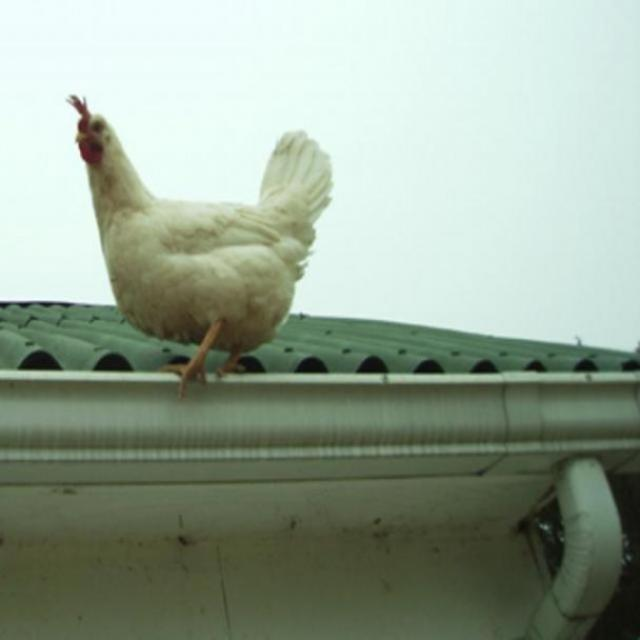Chicken: (57, 108, 354, 390)
